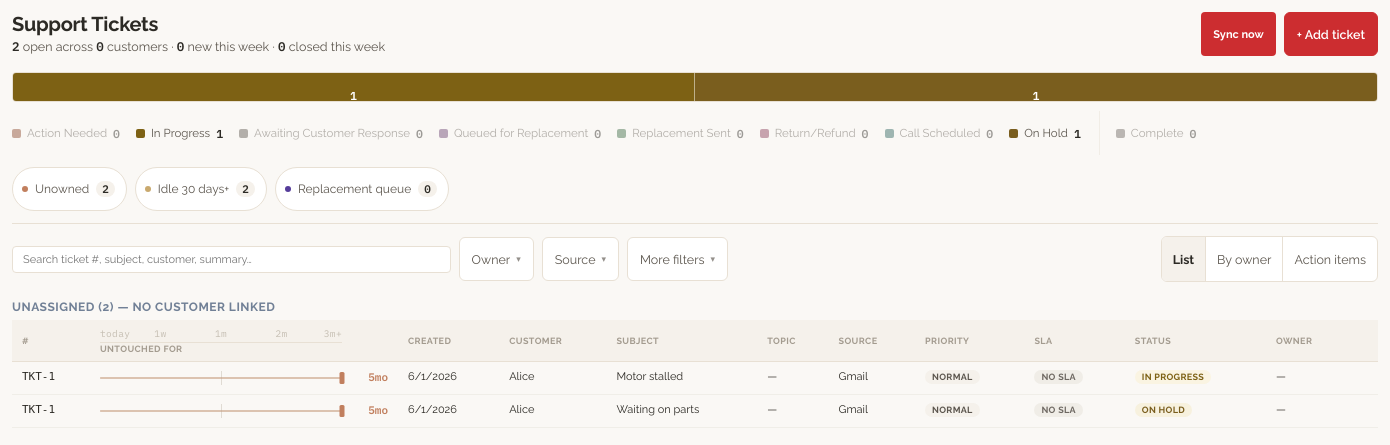
SupportTab status resilience › filters the table down to a chosen status
Click the button "In Progress 1": (180, 133) [136,111,223,155]
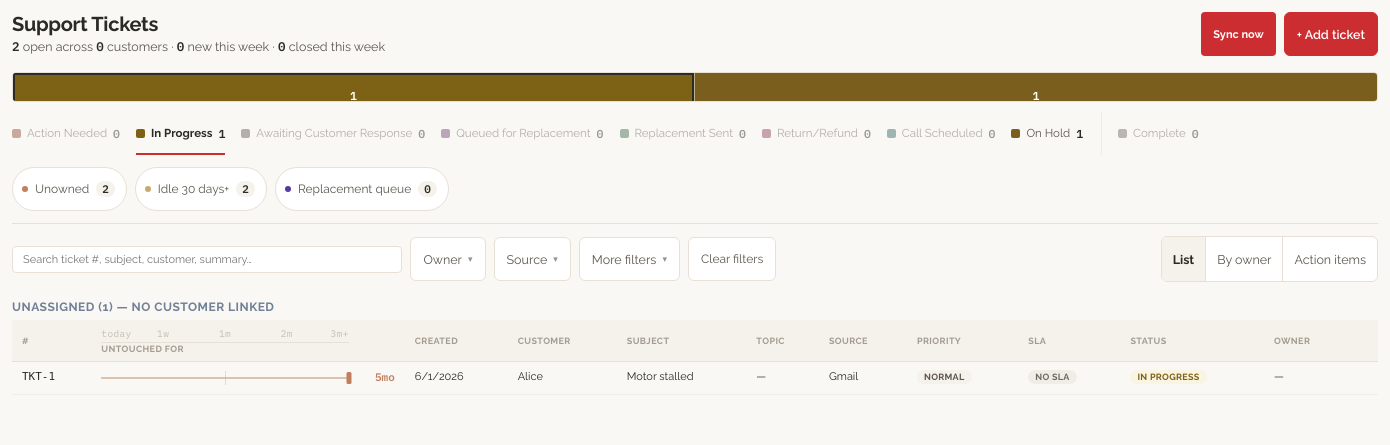
expect the table shows "Motor stalled": met, box [627,370,694,383]
expect the text "Waiting on parts" is gone: met
